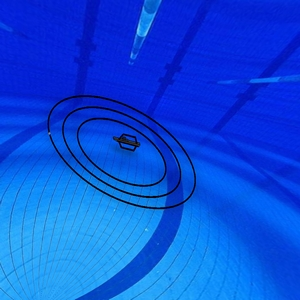circle: (41, 91, 205, 214)
submarine: (111, 130, 142, 157)
